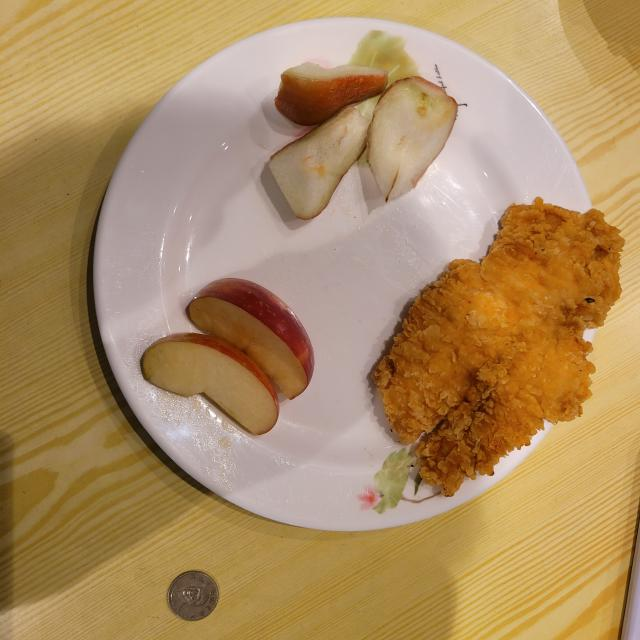apple -sliced-: (141, 279, 314, 435)
coin: (168, 571, 219, 621)
fried chicken cutlet: (372, 199, 624, 495)
